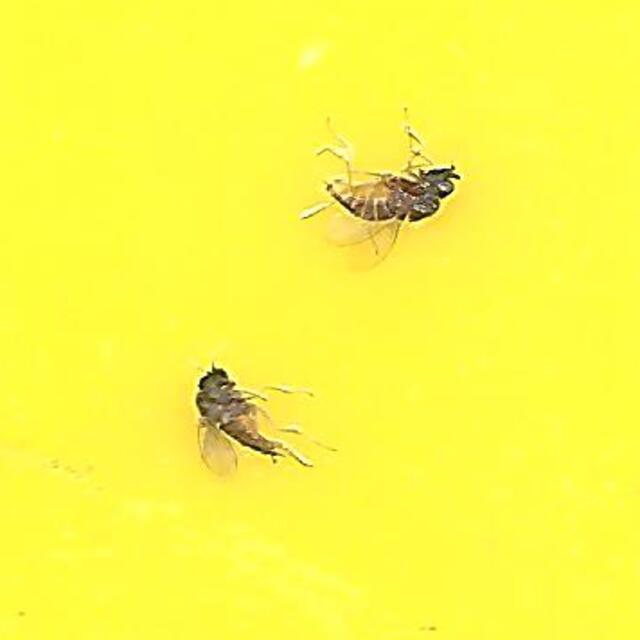Brachycera: (180, 359, 316, 484), (324, 156, 460, 234)
